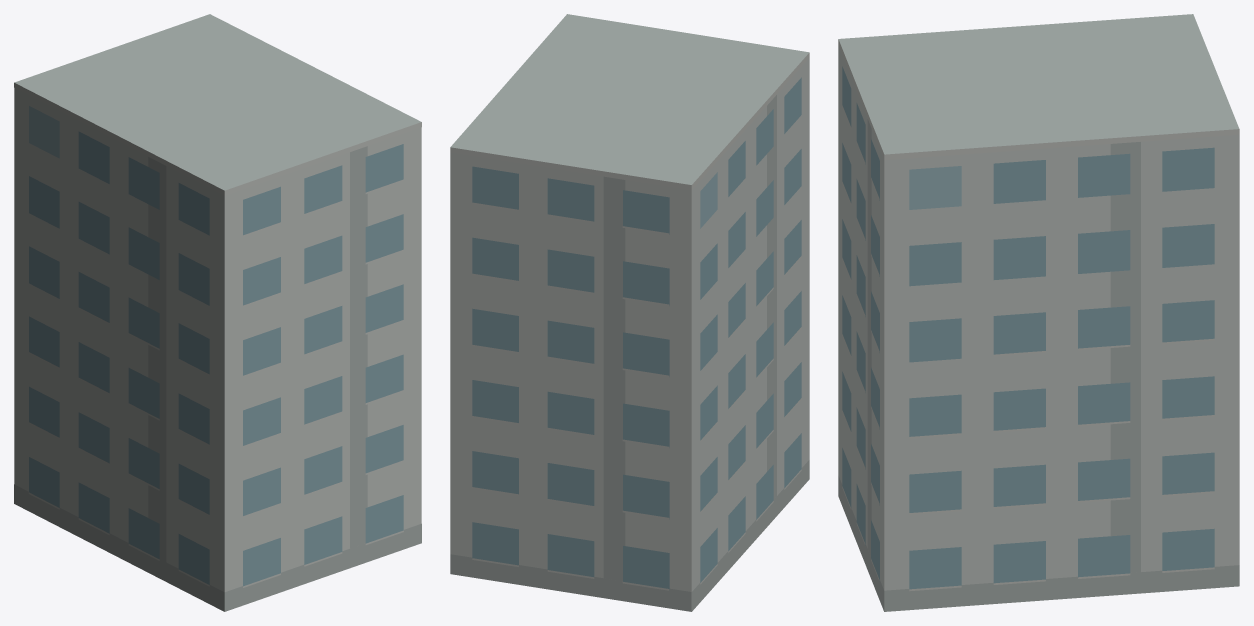
Rendered from survey-upis-32878170.glb.
3 views of the same model, side by side, from view 1: azimuth 30°, elevation 25°; view 2: azimuth 150°, elevation 25°; view 3: azimuth 270°, elevation 25° (orthographic). The views are drawn at different scales.
Visible parts, largest first — view 1: survey-upis-32878170.tmp; view 2: survey-upis-32878170.tmp; view 3: survey-upis-32878170.tmp.
Part boxes in pixels (x1,y1,x2,y2): survey-upis-32878170.tmp: [14, 14, 421, 611]; survey-upis-32878170.tmp: [450, 14, 809, 611]; survey-upis-32878170.tmp: [838, 14, 1239, 611].
Size of the model in its own units: 12.93 by 19.6 by 15.59.
